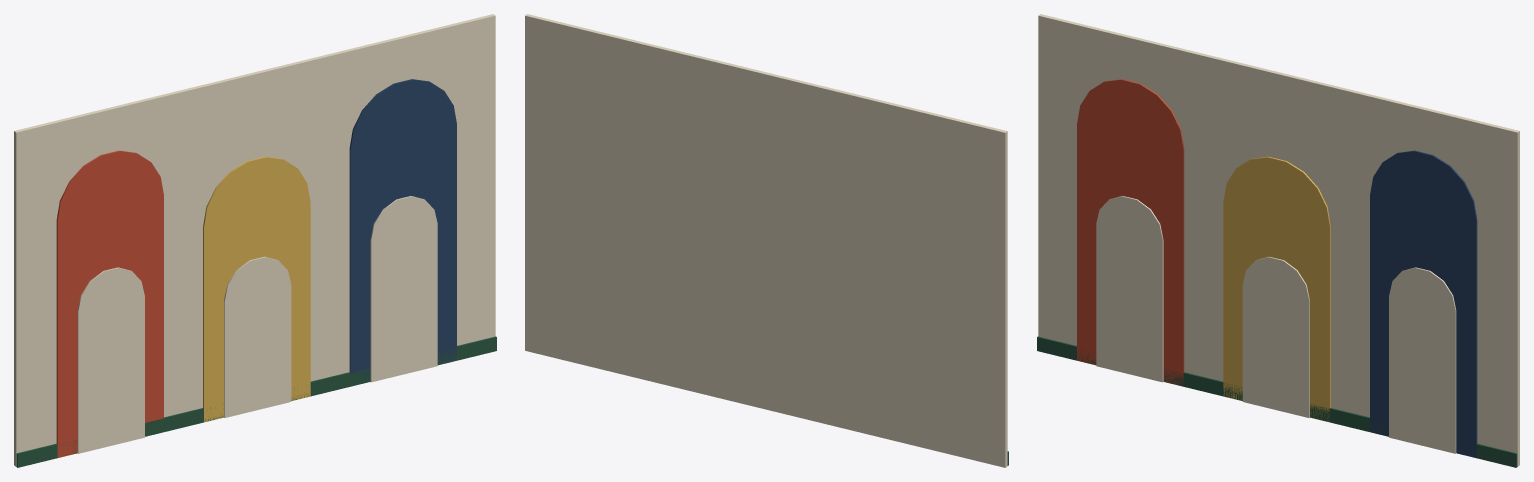
Rendered from mural_arches.glb.
3 views of the same model, side by side, from view 1: azimuth 30°, elevation 25°; view 2: azimuth 150°, elevation 25°; view 3: azimuth 330°, elevation 25° (orthographic).
Parts seen in each view (by area): view 1: mural_arches; view 2: mural_arches; view 3: mural_arches.
Boxes of the visible parts, box(x1,y1,x2,y2) form: mural_arches: box(14, 14, 496, 467); mural_arches: box(525, 14, 1008, 467); mural_arches: box(1037, 14, 1519, 467).
Size of the model in its own units: 3.6 by 2.4 by 0.056.
